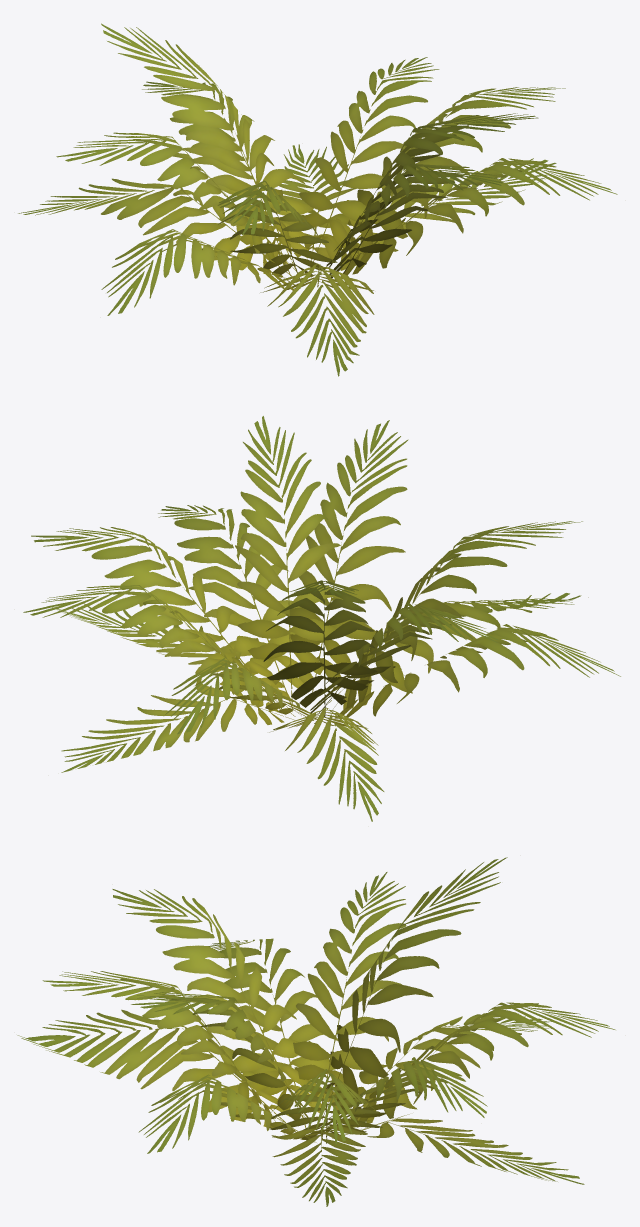
Rendered from plant3_lod0.fbx.
3 views of the same model, one above another, from view 1: azimuth 30°, elevation 25°; view 2: azimuth 150°, elevation 25°; view 3: azimuth 270°, elevation 25° (orthographic).
Parts seen in each view (by area): view 1: Tree_1_Tree_1Mat_0.005; view 2: Tree_1_Tree_1Mat_0.005; view 3: Tree_1_Tree_1Mat_0.005.
Part boxes in pixels (<box>): Tree_1_Tree_1Mat_0.005: <box>18,23,617,376</box>; Tree_1_Tree_1Mat_0.005: <box>23,416,620,821</box>; Tree_1_Tree_1Mat_0.005: <box>17,857,615,1206</box>.
Size of the model in its own units: 193 by 77.65 by 190.
Materials: 1 (1 with a texture image).
